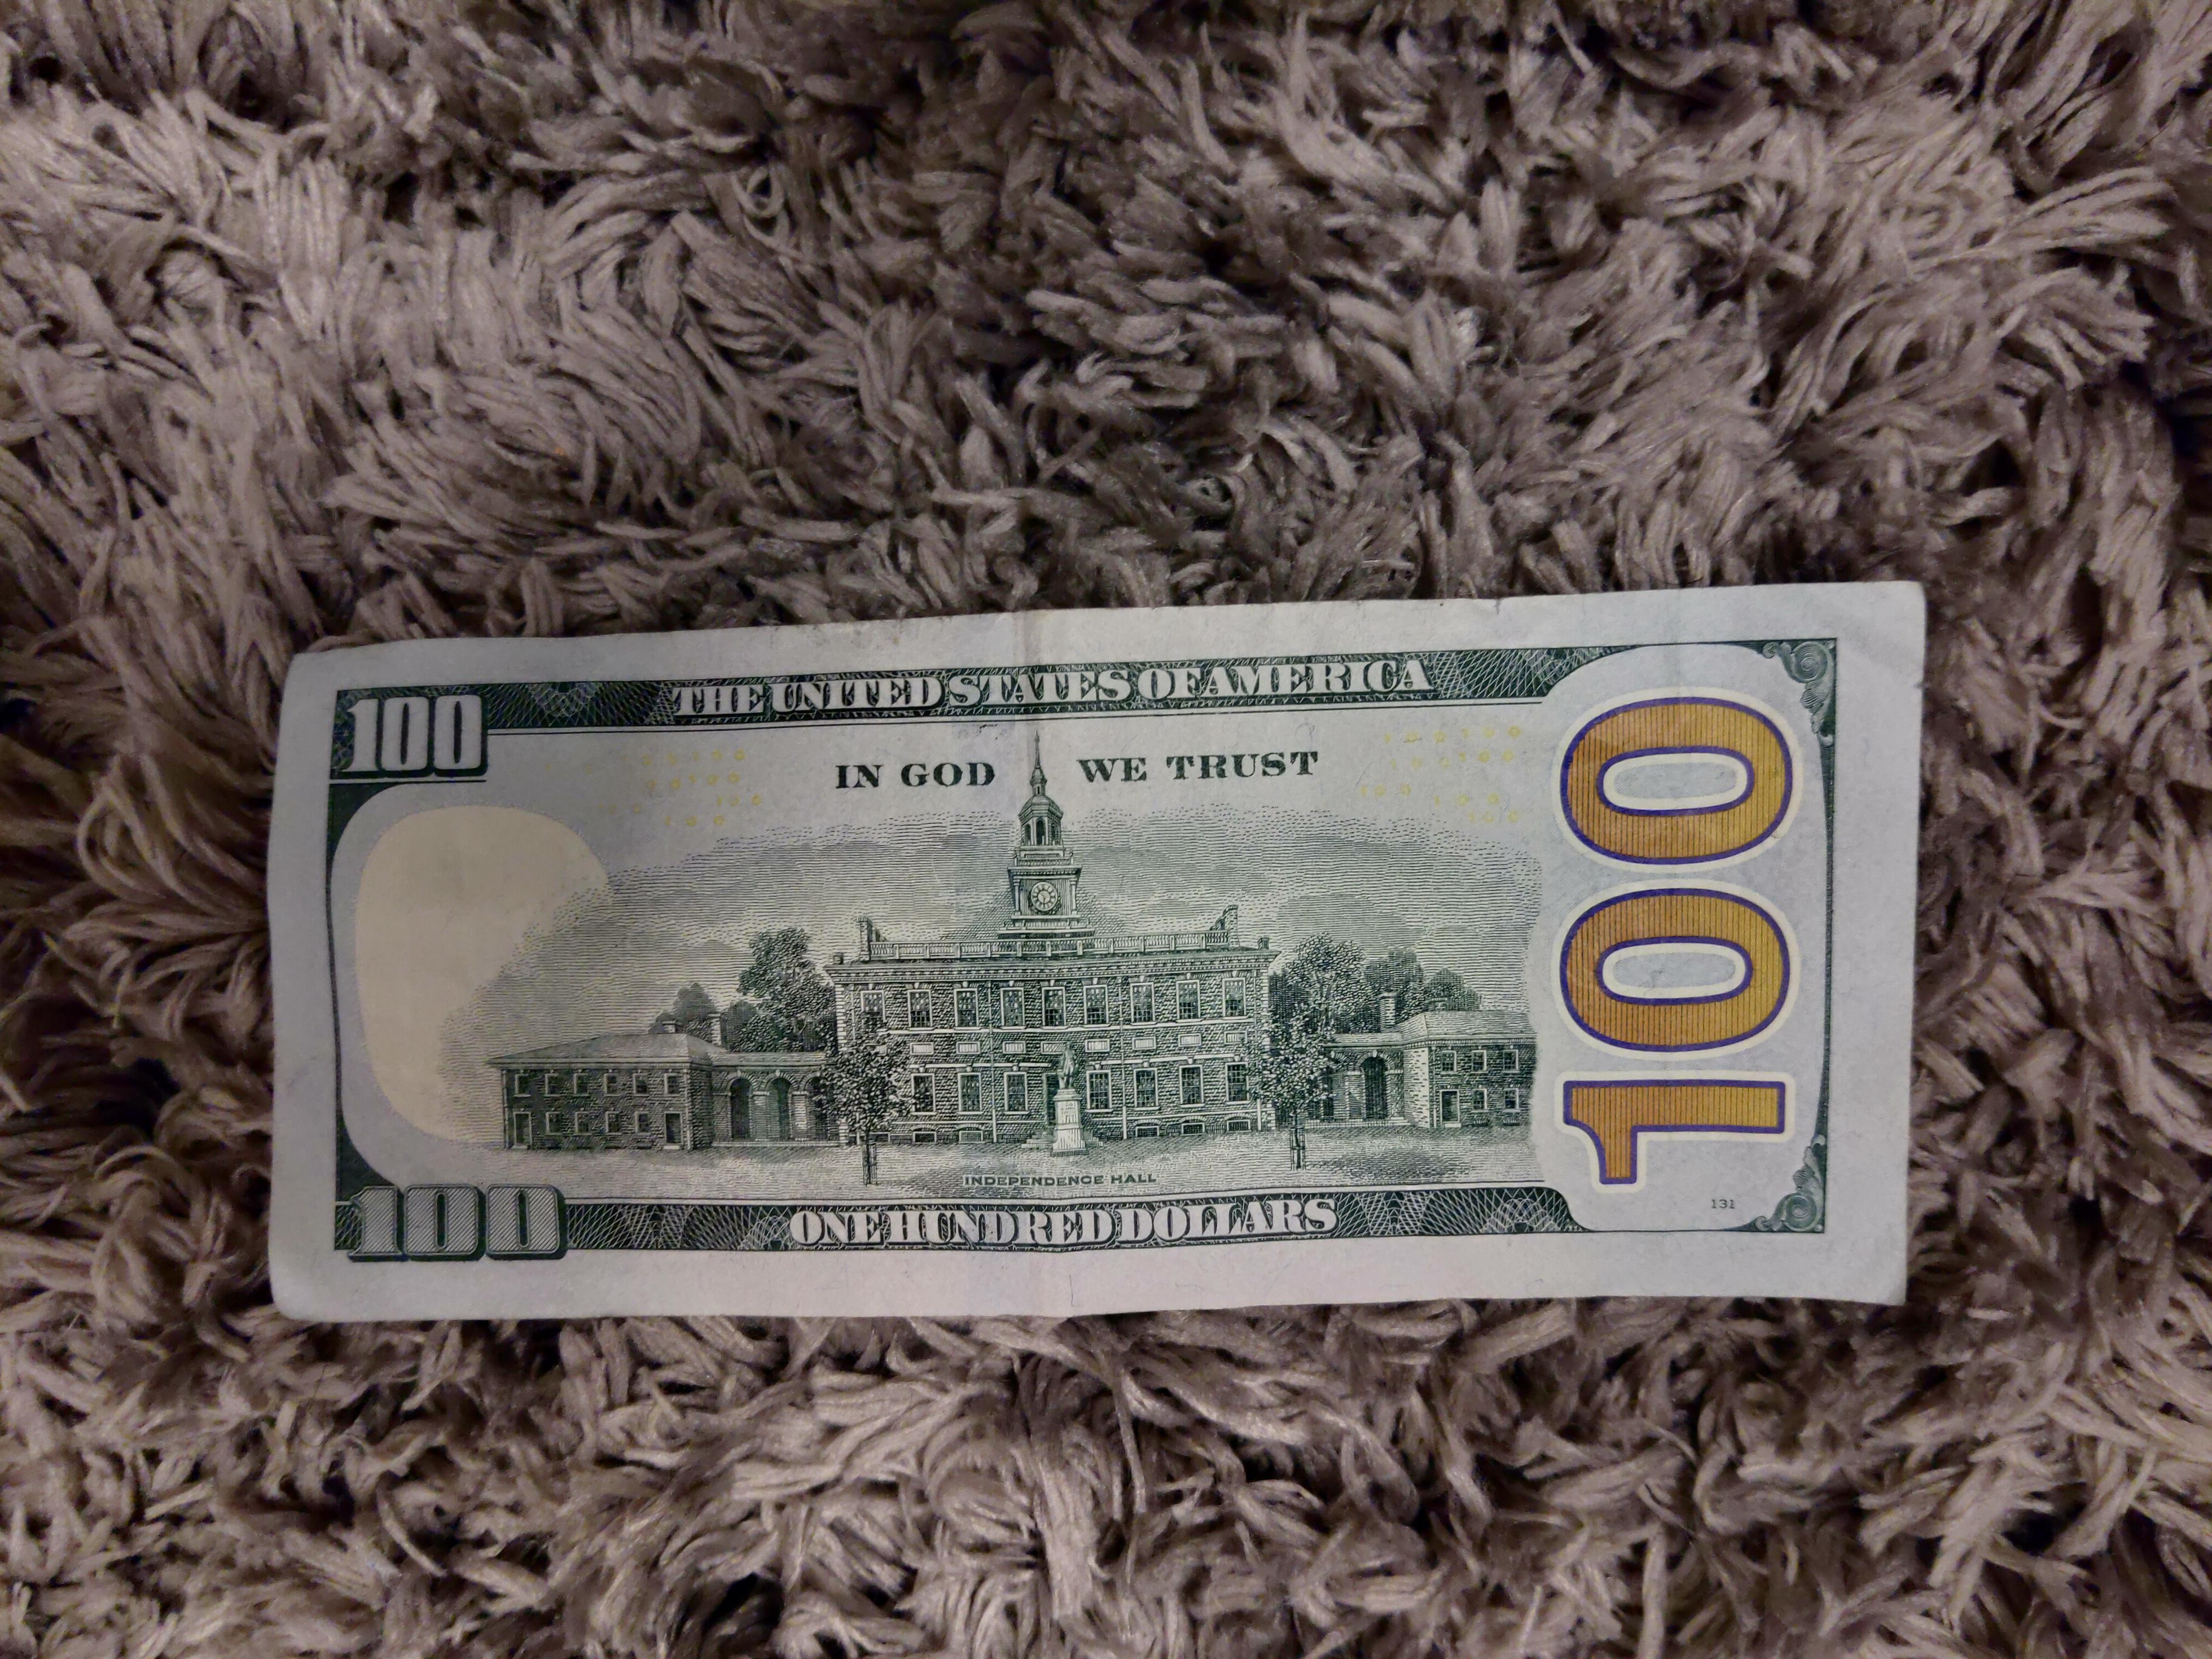HundredBill: (277, 573, 1949, 1326)
